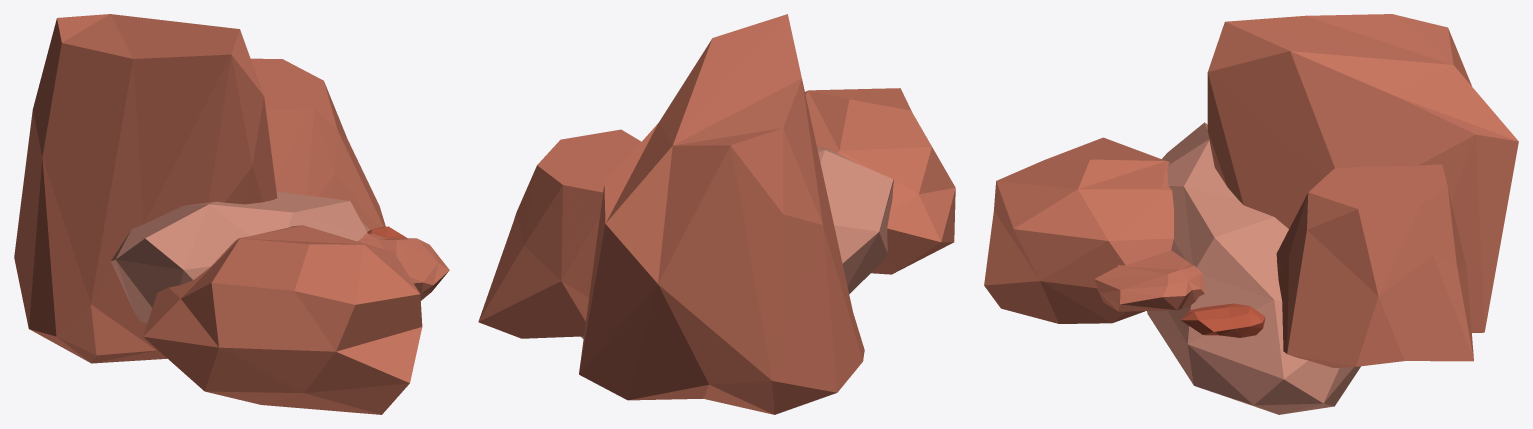
Rendered from rock_006.fbx.
3 renders of one model, left to right at view 1: azimuth 30°, elevation 25°; view 2: azimuth 150°, elevation 25°; view 3: azimuth 270°, elevation 25°, orthographic. The views are drawn at different scales.
Visible parts, largest first — view 1: rock_006; view 2: rock_006; view 3: rock_006.
Boxes of the visible parts, x1,y1,x2,y2 form: rock_006: (14, 14, 449, 414); rock_006: (478, 14, 955, 414); rock_006: (984, 14, 1518, 414).
Size of the model in its own units: 437 by 616 by 408.
